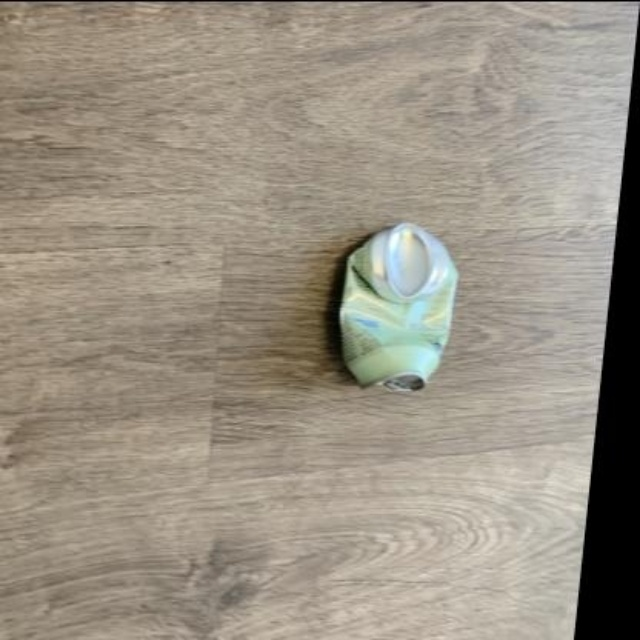trash: (340, 222, 457, 389)
